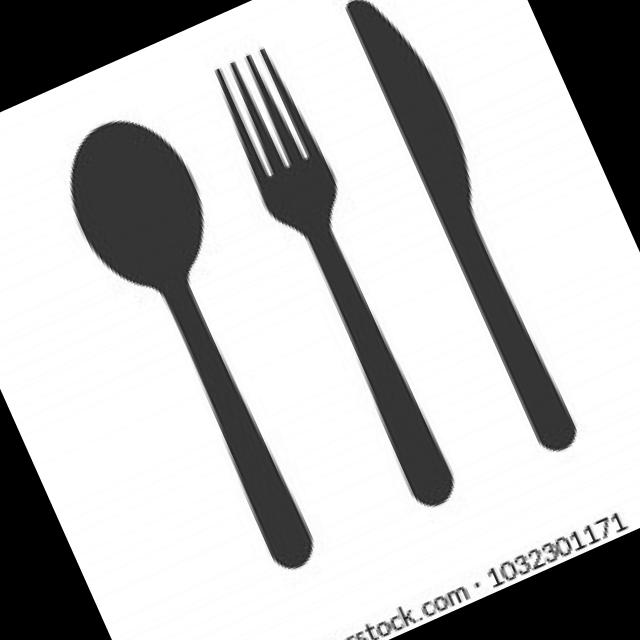fork: (202, 39, 477, 522)
